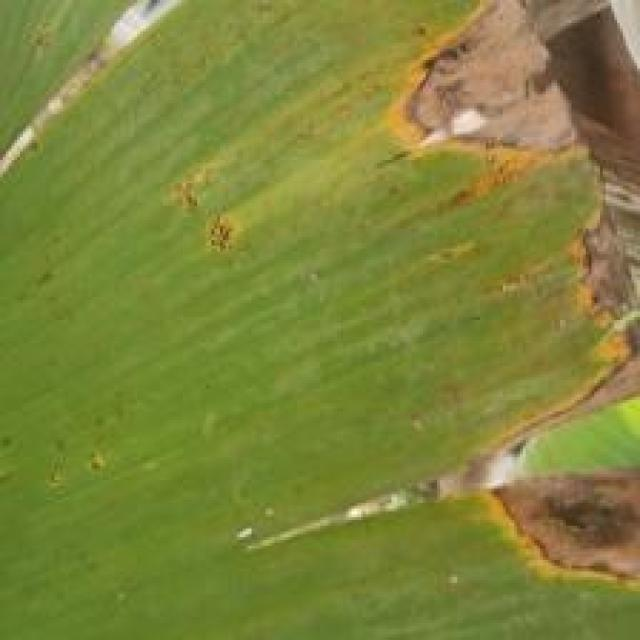Downey_mildrew: (377, 0, 640, 594), (0, 0, 195, 203), (220, 459, 383, 558), (194, 176, 266, 272)
